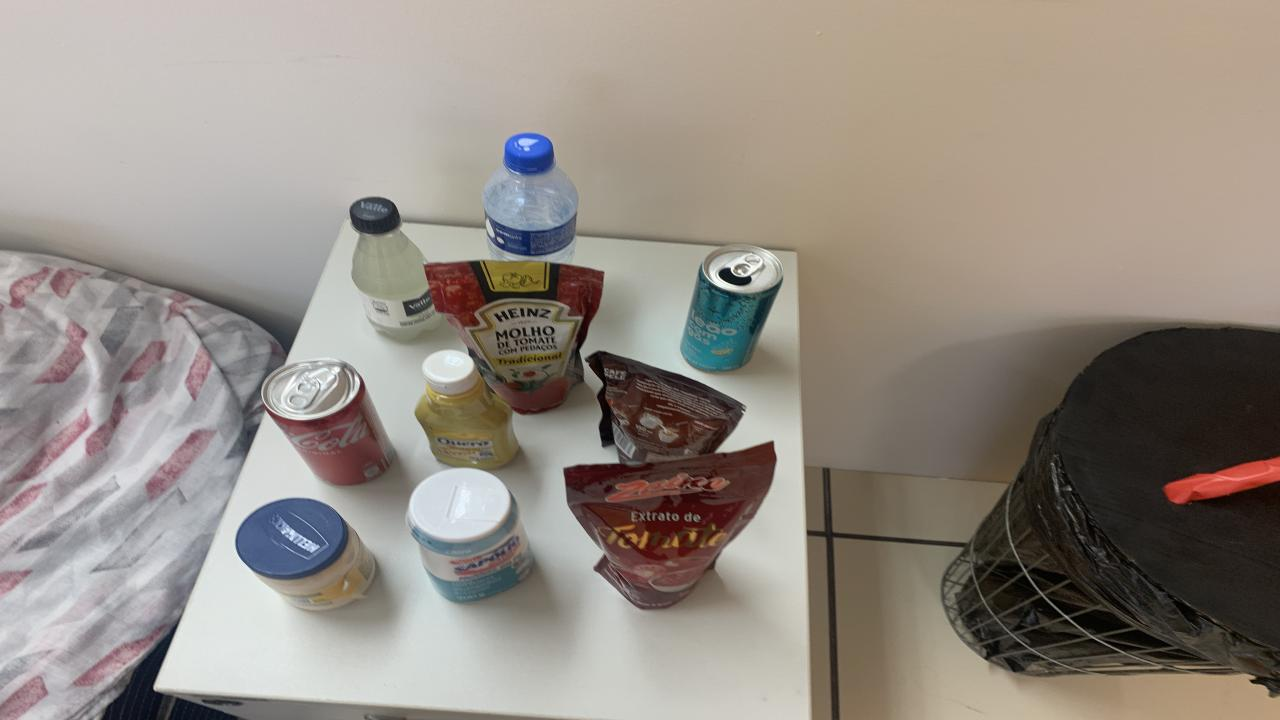Cleaner-Cleanup_Items: (405, 469, 532, 602)
Coffee-Pantry_Items: (585, 351, 745, 463)
Coke-Drinks: (262, 358, 395, 486)
Mayonnaise-Pantry_Items: (235, 499, 375, 611)
Mustard-Pantry_Items: (415, 351, 518, 469)
Soda-Drinks: (350, 197, 440, 341)
Tea-Drinks: (680, 244, 782, 371)
Tomato_Sauce-Pantry_Items: (565, 442, 778, 609), (425, 261, 602, 414)
Water_Bottle-Drinks: (482, 133, 578, 264)
